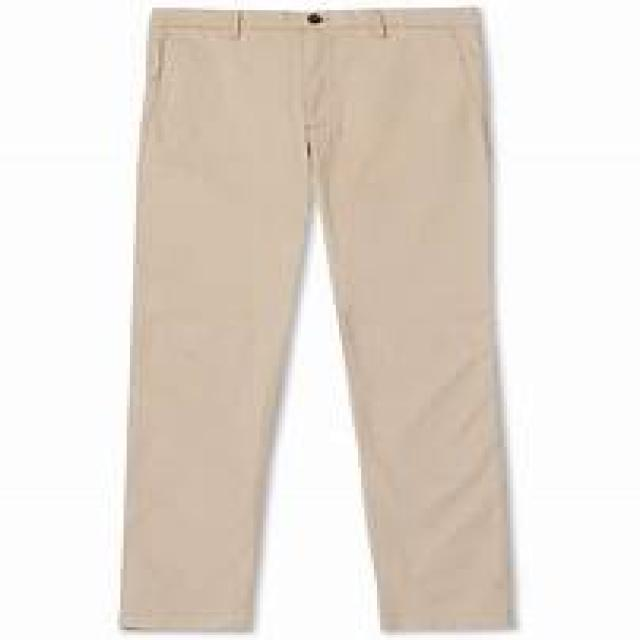long-pants: (116, 3, 516, 636)
